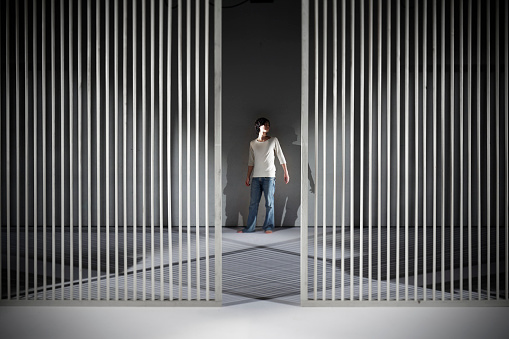em pe: (238, 111, 283, 232)
